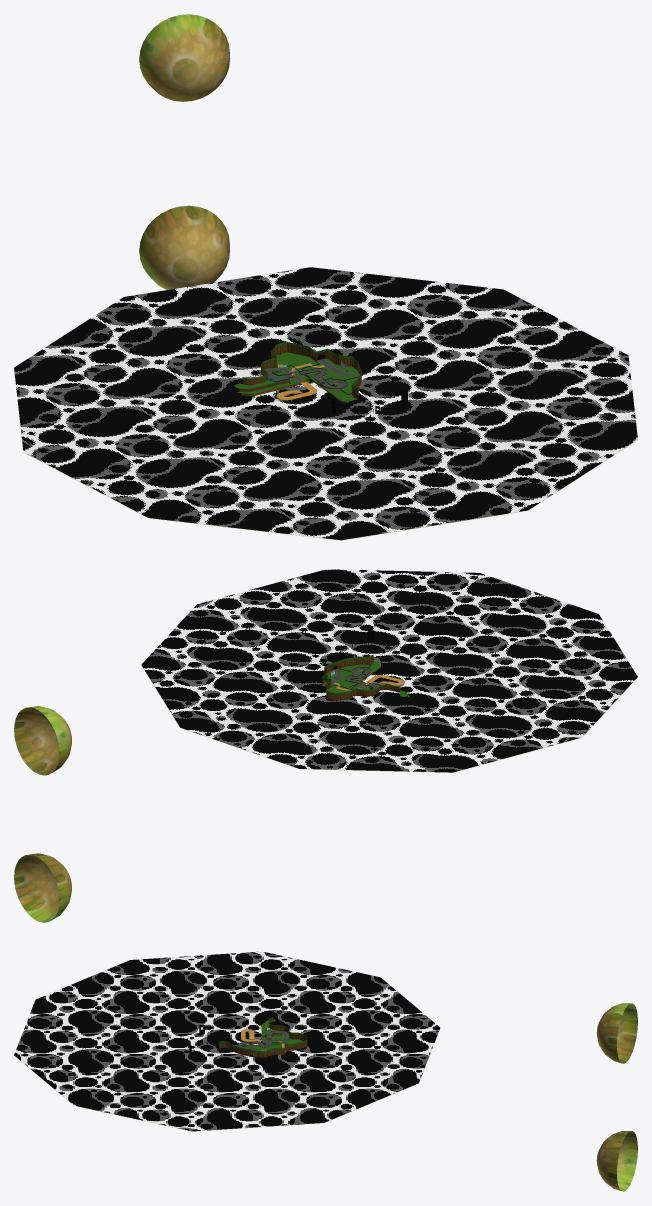
3 renders of one model, top to bottom at view 1: azimuth 30°, elevation 25°; view 2: azimuth 150°, elevation 25°; view 3: azimuth 270°, elevation 25°, orthographic. The views are drawn at different scales.
Visible parts, largest first — view 1: water_ima.001, polygon17.020, wall.017, grass.035, road.034; view 2: water_ima.001, polygon17.020, wall.017, grass.035, water_death.001; view 3: water_ima.001, polygon17.020, wall.017, grass.035, water_death.001.
Part boxes in pixels (bbox=[...]): water_ima.001: bbox=[14, 267, 637, 540]; polygon17.020: bbox=[139, 14, 407, 418]; wall.017: bbox=[239, 342, 361, 403]; grass.035: bbox=[234, 352, 358, 402]; road.034: bbox=[265, 359, 359, 388]; water_ima.001: bbox=[141, 569, 637, 772]; polygon17.020: bbox=[14, 630, 413, 922]; wall.017: bbox=[322, 654, 407, 701]; grass.035: bbox=[322, 661, 410, 697]; water_death.001: bbox=[141, 665, 637, 772]; water_ima.001: bbox=[14, 951, 440, 1131]; polygon17.020: bbox=[183, 1003, 637, 1191]; wall.017: bbox=[219, 1017, 307, 1057]; grass.035: bbox=[234, 1019, 302, 1050]; water_death.001: bbox=[14, 1032, 438, 1131].
Bounding box in the file's own units: 349271 × 165690 × 511880.
17 materials, 17 textured.
